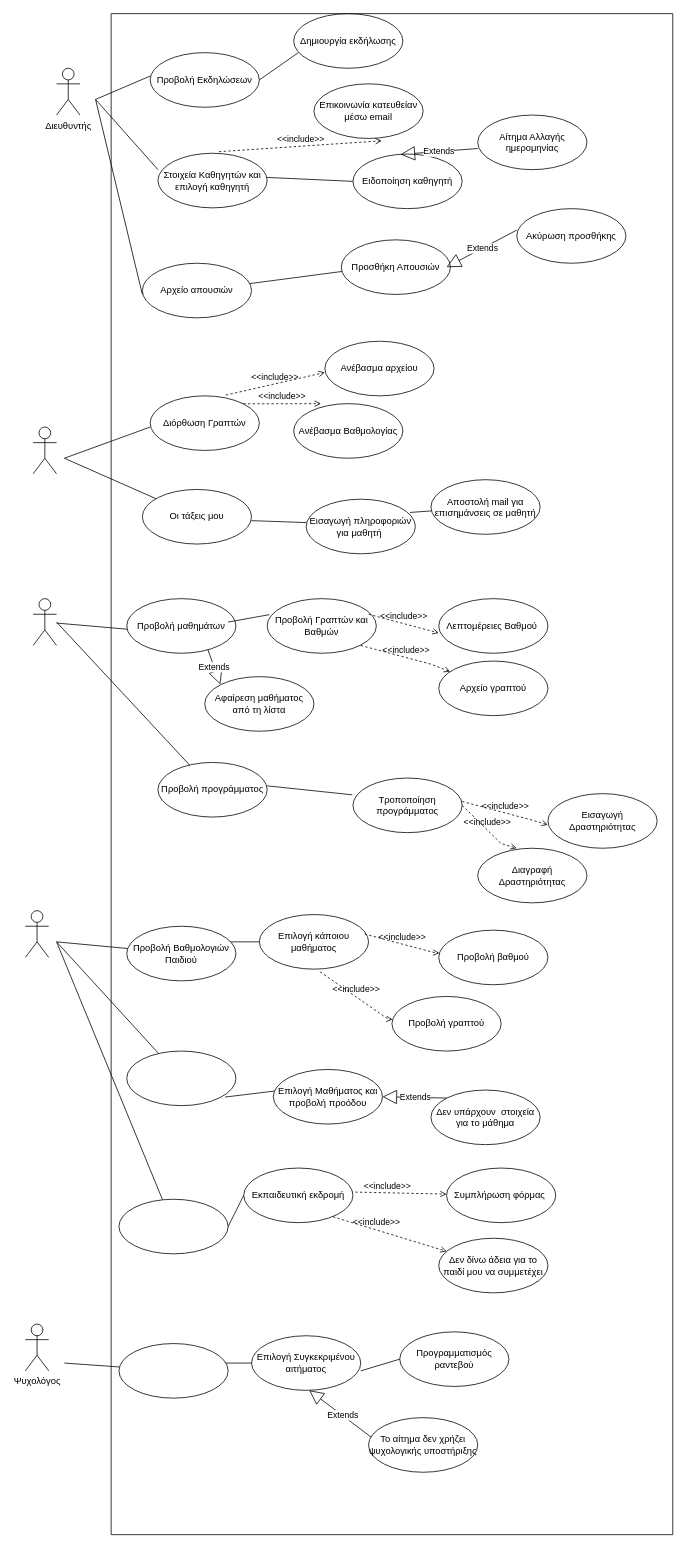
This 686x1548 diagram has some shape labels left out. Each missing label, with the centre of its shape:
Αιτήματα Επικοινωνίας σχολικού προσωπικού: (173,1370)
Γονέας: (37,933)
Καθηγητής: (44,450)
Μαθητής: (44,621)
Παρακολούθηση Προόδου παιδιού: (181,1078)
Πρόγραμμα και ανακοινώσεις: (173,1226)
